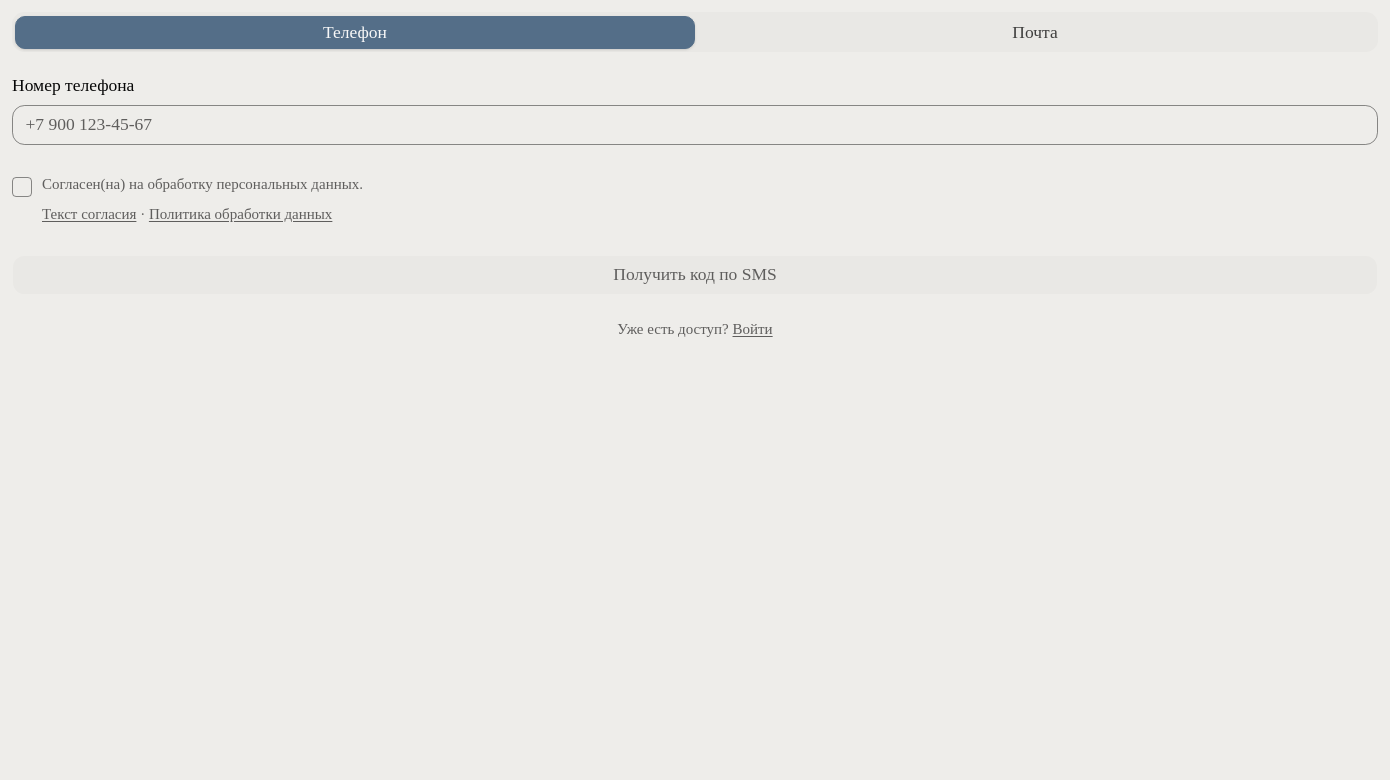
Test: регистрация: способы по одному › согласие, отмеченное на одной вкладке, остаётся отмеченным на другой
Click the checkbox: (22, 187) left=12, top=177, right=32, bottom=197
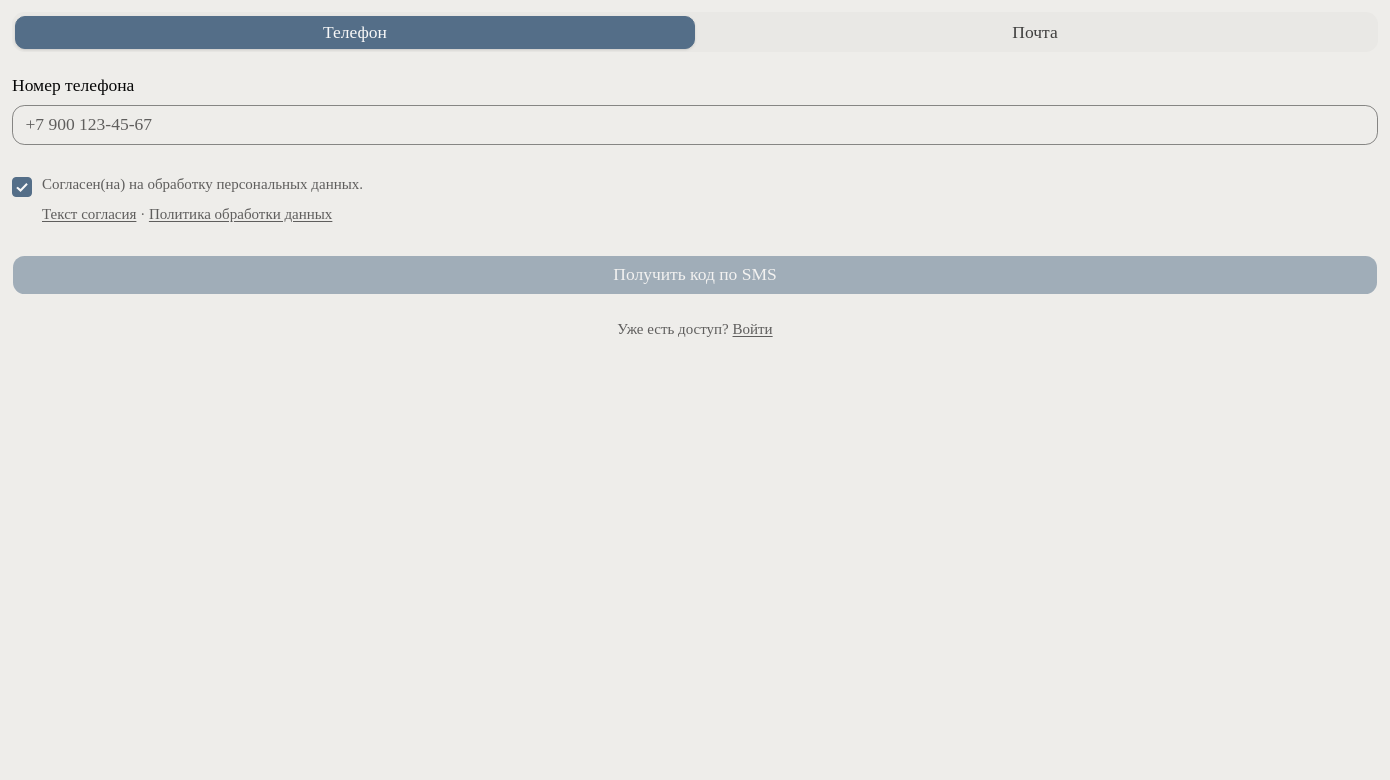
Press the mouse on the tab "Почта": (1035, 32) left=695, top=16, right=1375, bottom=48
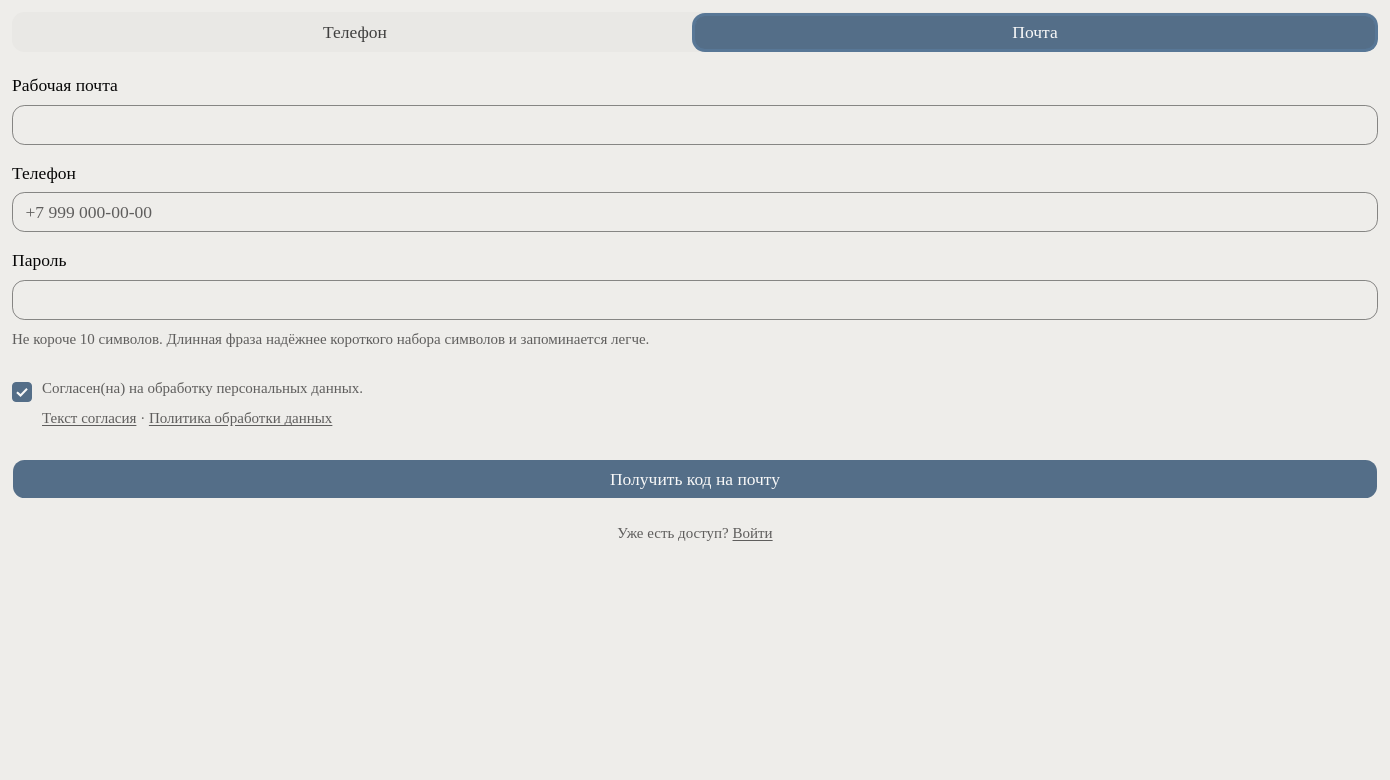
Expected: the checkbox is checked, left=12, top=382, right=32, bottom=402
Expected: the number of checkboxes is 1, left=12, top=382, right=32, bottom=402
